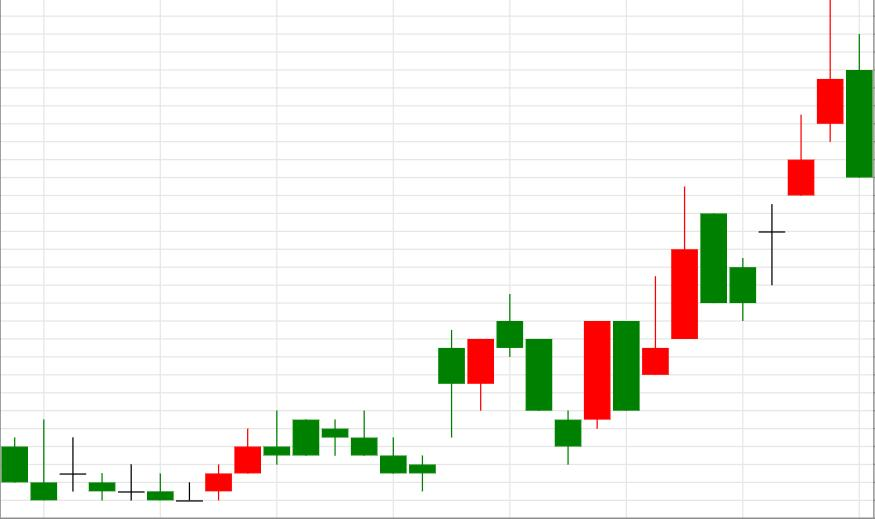shooting_star_fall: (642, 0, 843, 375)
